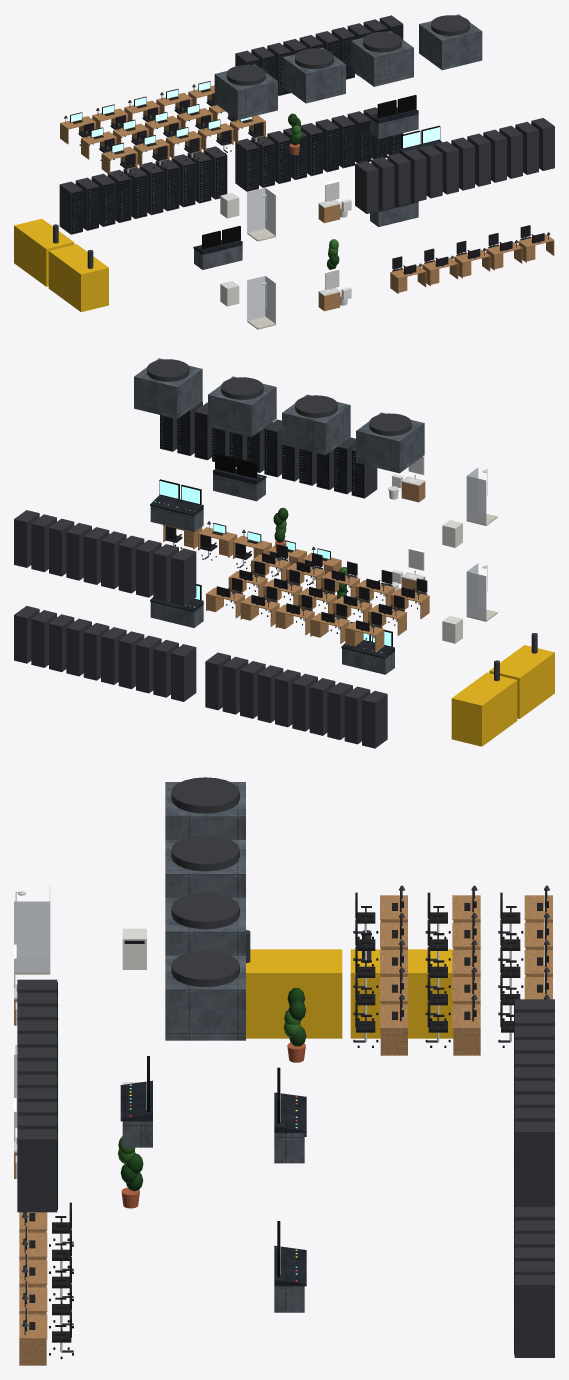
Rendered from i_data_center.gltf.
3 renders of one model, top to bottom at view 1: azimuth 30°, elevation 25°; view 2: azimuth 150°, elevation 25°; view 3: azimuth 270°, elevation 25°, orthographic. The views are drawn at different scales.
Visible parts, largest first — view 1: I_data_center; view 2: I_data_center; view 3: I_data_center.
Boxes of the visible parts, left/top/right/bottom form: I_data_center: left=14, top=14, right=554, bottom=329; I_data_center: left=14, top=358, right=554, bottom=748; I_data_center: left=14, top=777, right=554, bottom=1365.
Bounding box in the file's own units: 20.61 × 9.8 × 13.44.
Materials: 26 (5 with a texture image).
